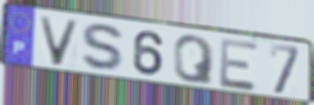6: (133, 29, 166, 78)
7: (269, 42, 301, 98)
E: (218, 37, 261, 94)
Q: (172, 34, 216, 86)
S: (80, 22, 128, 75)
V: (36, 14, 82, 68)
